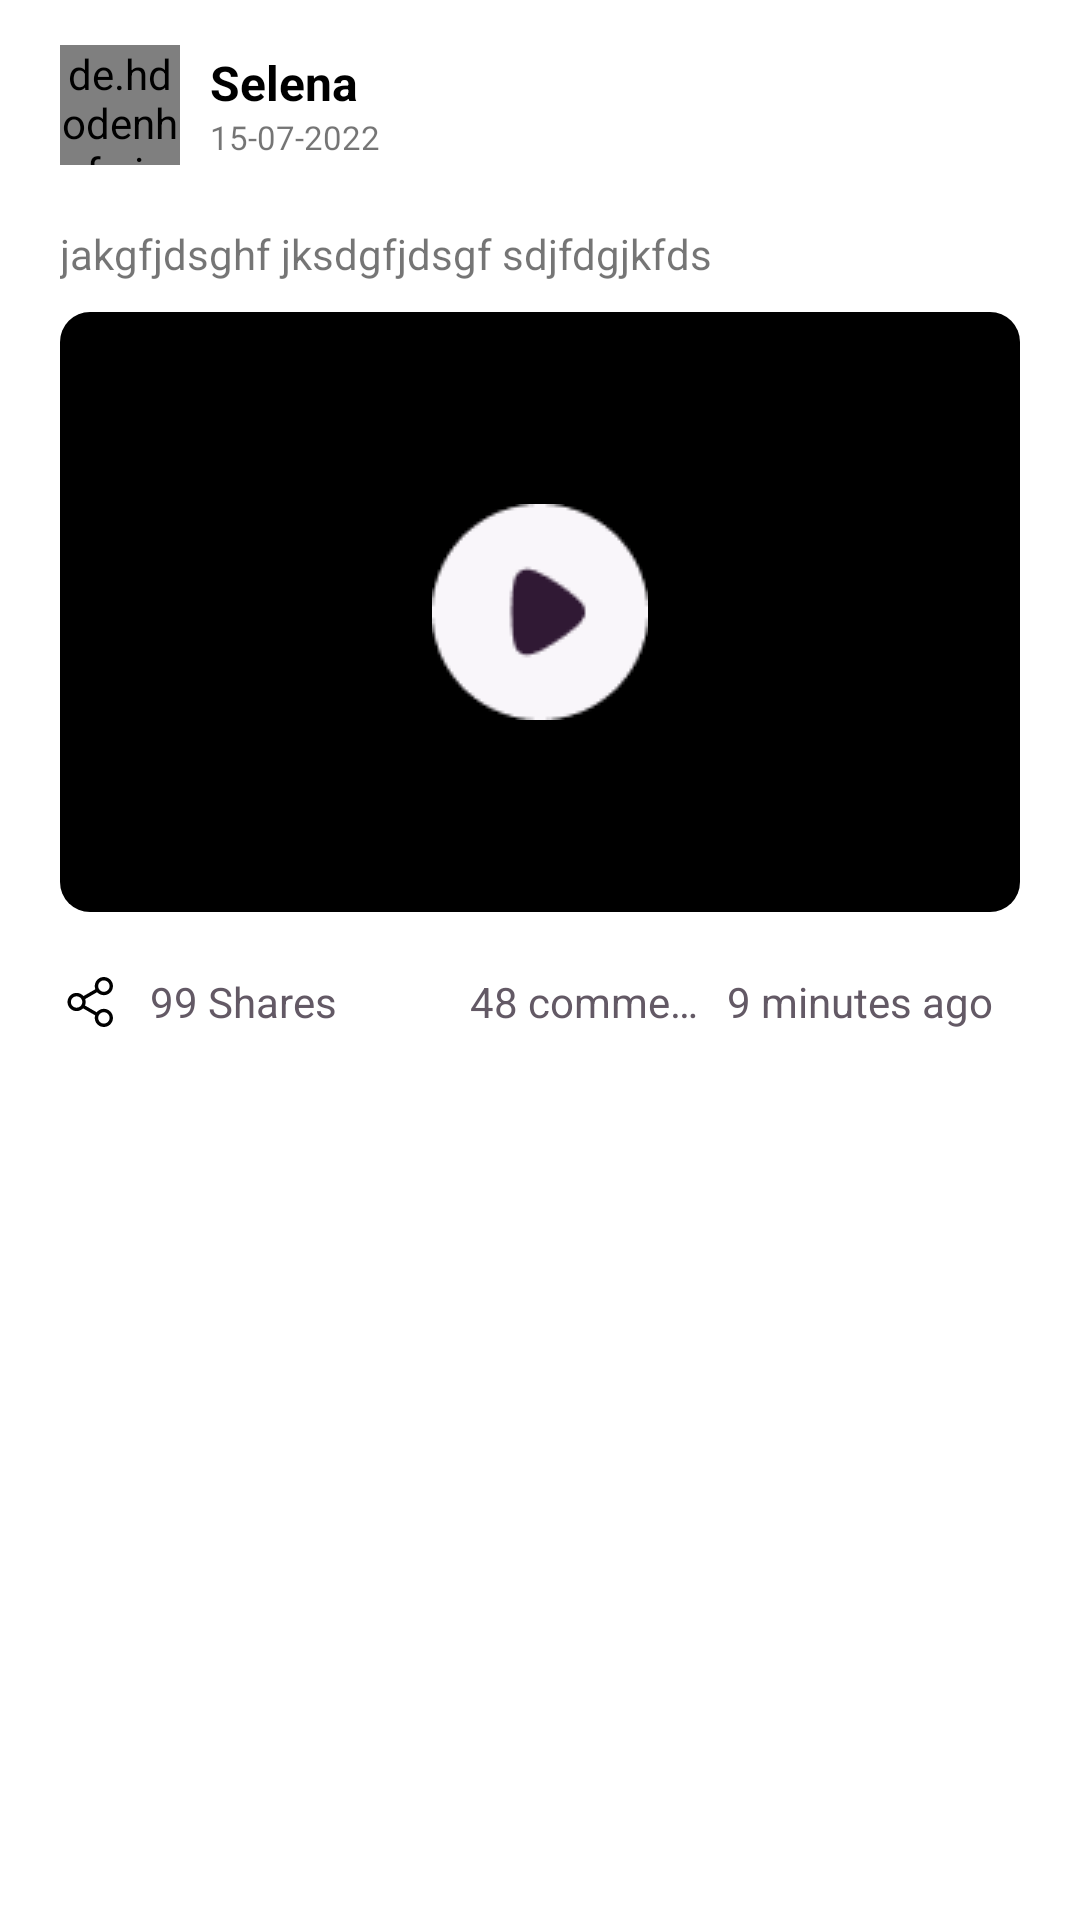

Screen size 1080×1920. Icon name, then its box in pixels as bbox=[x1, y1, x2, y2]:
play: bbox=[432, 504, 648, 720]
